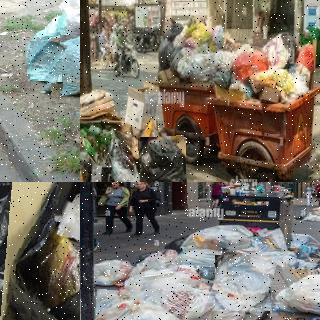Garbage: (2, 182, 80, 320), (0, 182, 42, 320), (212, 252, 274, 314), (91, 290, 188, 320), (180, 219, 257, 255), (269, 267, 320, 318), (156, 279, 214, 320), (139, 136, 186, 182), (50, 37, 80, 96), (28, 39, 65, 83), (59, 0, 80, 72), (231, 47, 270, 80), (92, 258, 131, 287)
